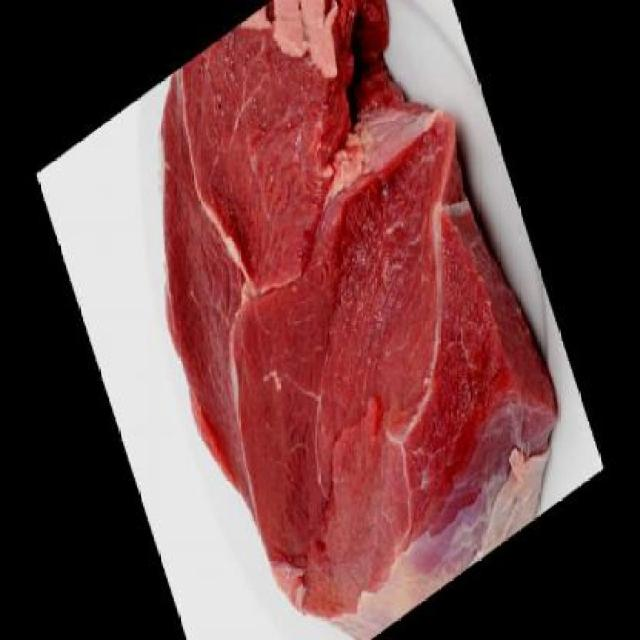beef: (153, 1, 578, 640)
